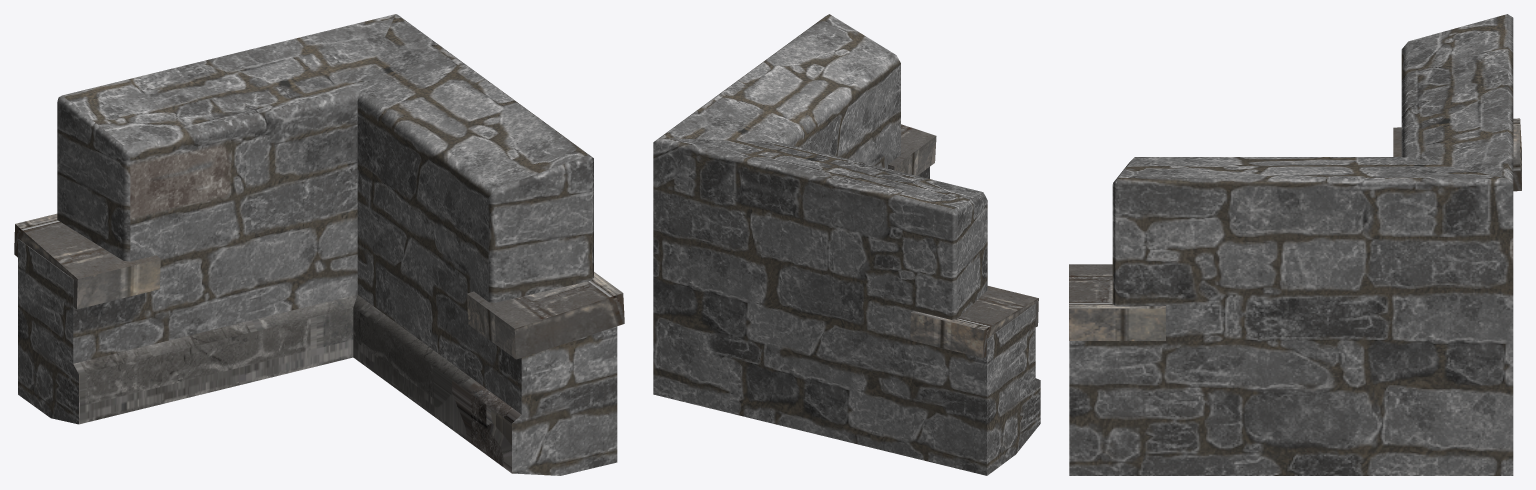
File: MC_Battlements_Wall_C_Angle_In.fbx
The picture shows the model from 3 angles, left to right: view 1: azimuth 30°, elevation 25°; view 2: azimuth 150°, elevation 25°; view 3: azimuth 270°, elevation 25°; orthographic projection. The views are drawn at different scales.
Parts seen in each view (by area): view 1: MC_Battlements_Wall_C_Angle_In_LOD0; view 2: MC_Battlements_Wall_C_Angle_In_LOD0; view 3: MC_Battlements_Wall_C_Angle_In_LOD0.
Boxes of the visible parts, x1=… form: MC_Battlements_Wall_C_Angle_In_LOD0: x1=14, y1=14, x2=624, y2=475; MC_Battlements_Wall_C_Angle_In_LOD0: x1=653, y1=14, x2=1040, y2=475; MC_Battlements_Wall_C_Angle_In_LOD0: x1=1069, y1=14, x2=1521, y2=475.
Size of what is drawn, in the model's own units: 240 by 172 by 240.
